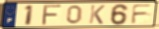0: (65, 5, 84, 25)
1: (24, 4, 34, 27)
6: (110, 3, 129, 26)
F: (40, 4, 64, 26), (130, 4, 154, 25)
K: (88, 4, 106, 25)
